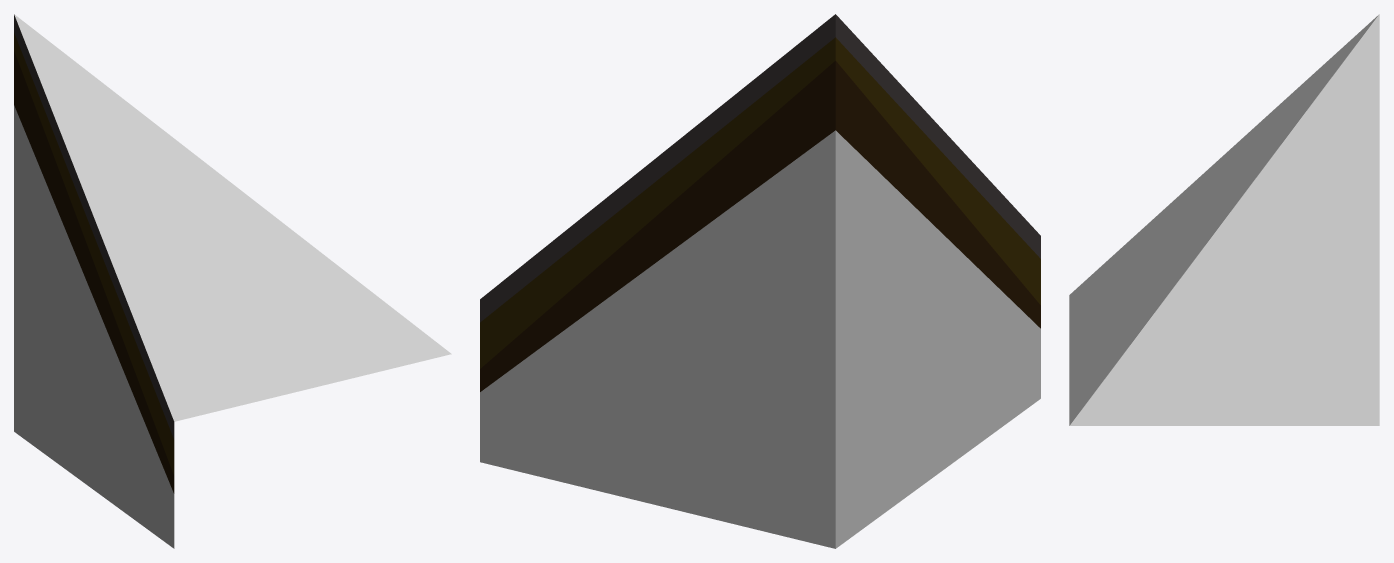
File: model_loc_1665_g.obj
3 views of the same model, side by side, from view 1: azimuth 30°, elevation 25°; view 2: azimuth 150°, elevation 25°; view 3: azimuth 270°, elevation 25° (orthographic). The views are drawn at different scales.
Visible parts, largest first — view 1: 954; view 2: 954; view 3: 954.
Part boxes in pixels (x1=…): 954: x1=14, y1=14, x2=451, y2=548; 954: x1=480, y1=14, x2=1040, y2=548; 954: x1=1069, y1=14, x2=1379, y2=425.
Bounding box in the file's own units: 128 × 184 × 128.
